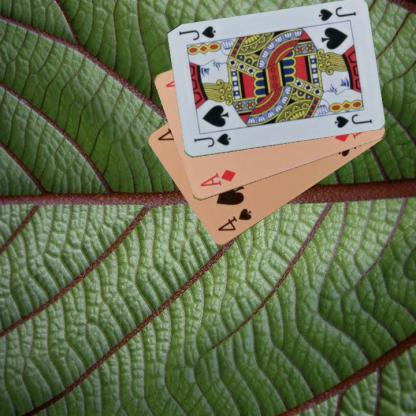4s: (214, 206, 253, 233)
Ad: (197, 166, 237, 188)
Js: (316, 4, 357, 23), (190, 131, 232, 149)
